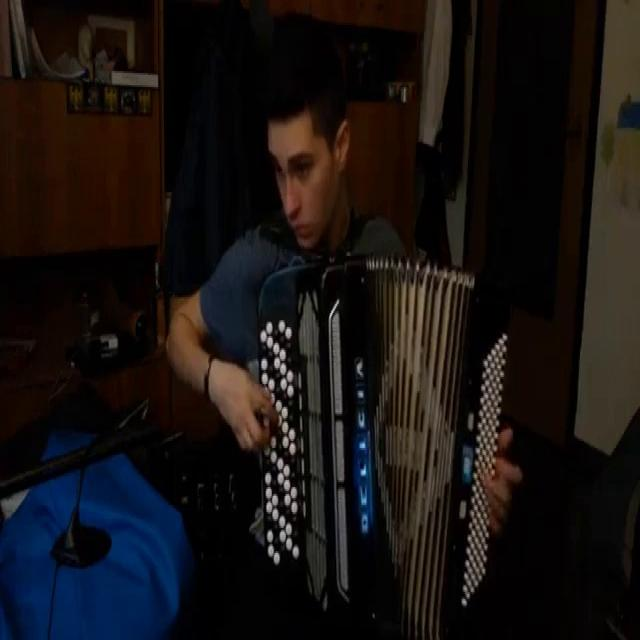Accordion: (253, 249, 514, 640)
